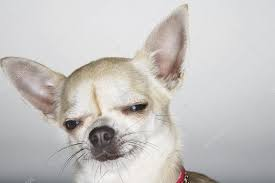chihuahua: (3, 3, 192, 183)
